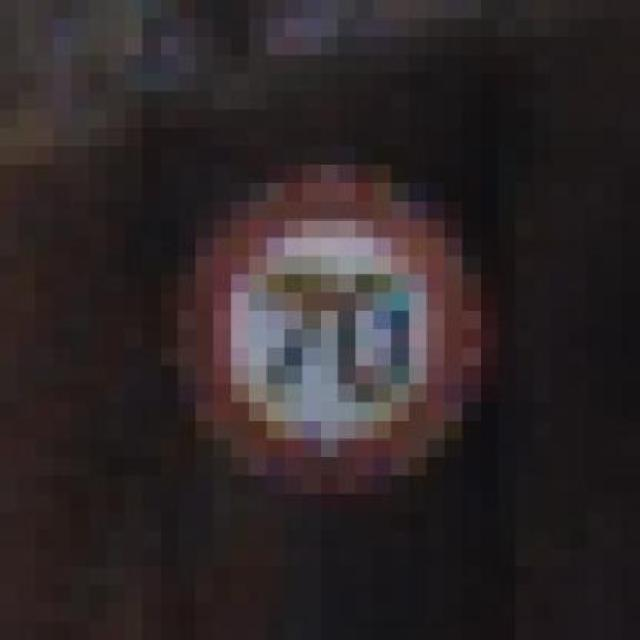forb_speed_over_70: (190, 181, 475, 488)
